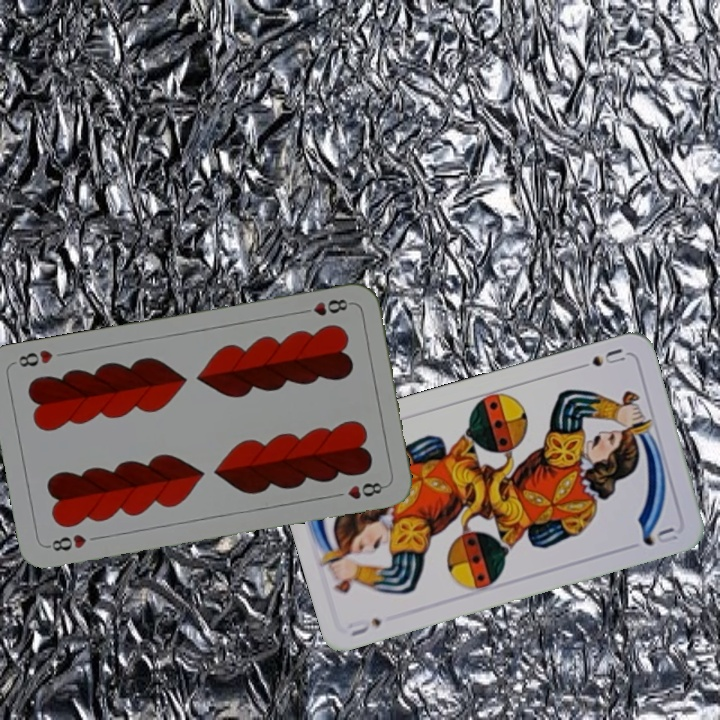H8: (296, 295, 355, 319), (43, 530, 89, 554)
SU: (571, 344, 628, 373), (344, 613, 385, 639)
